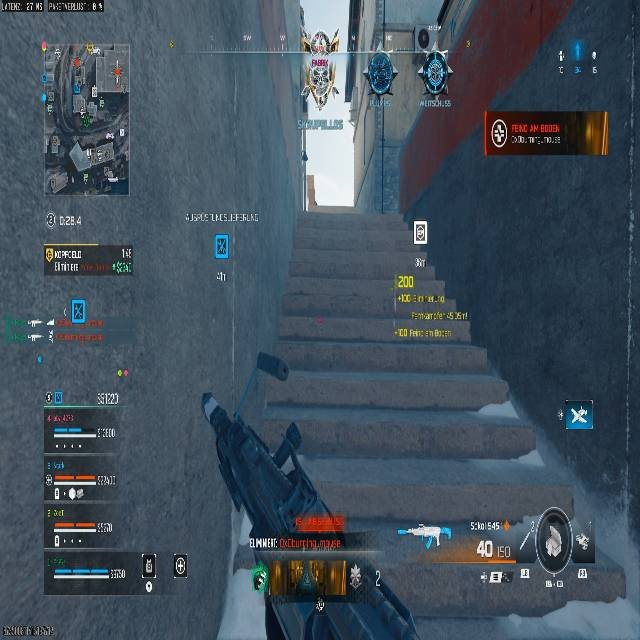player: (416, 38, 452, 102)
